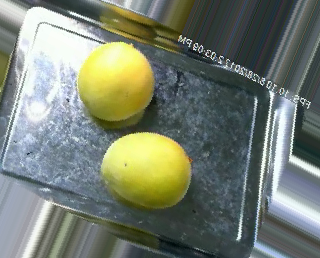Mango: (101, 131, 194, 211), (77, 40, 154, 120)
